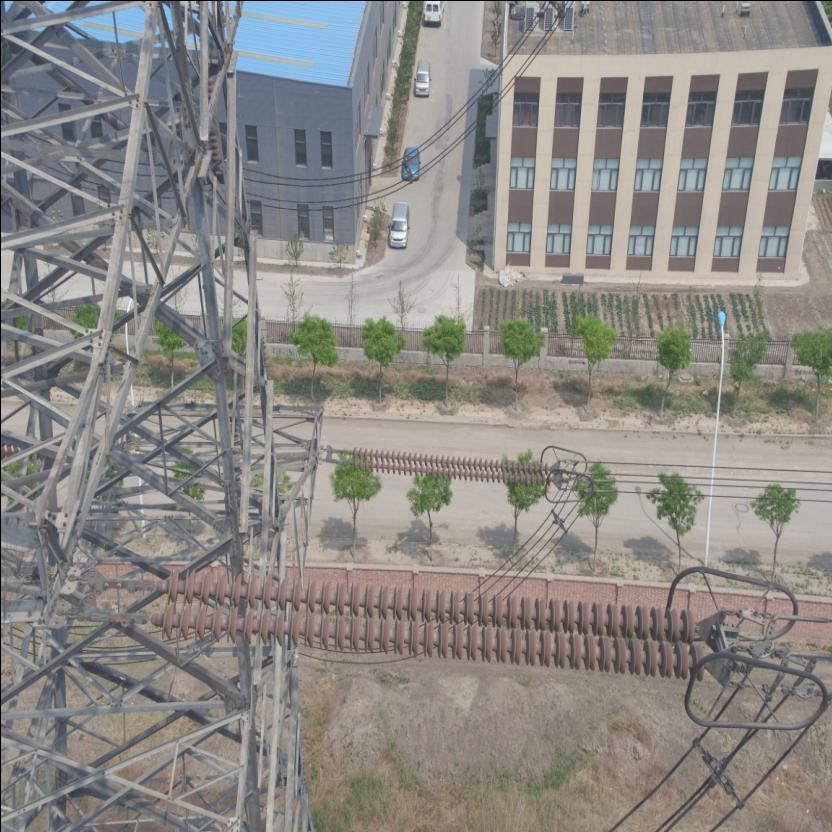insulator: (95, 561, 717, 683), (334, 441, 554, 490)
